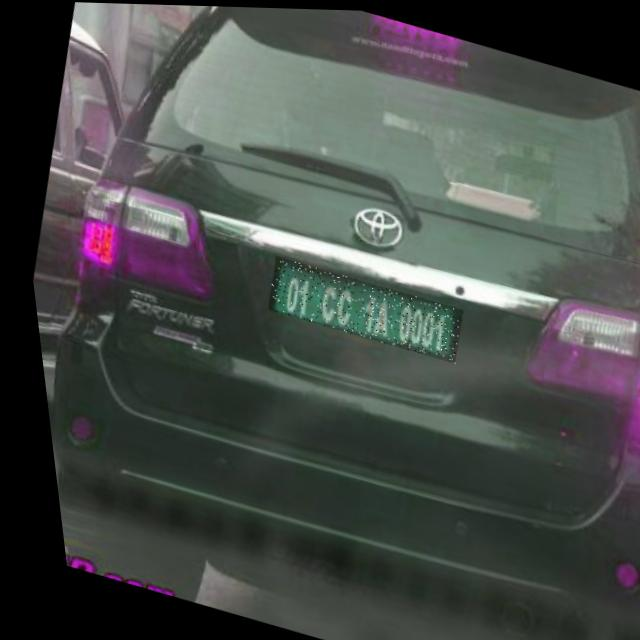license_plate: (255, 254, 460, 361)
